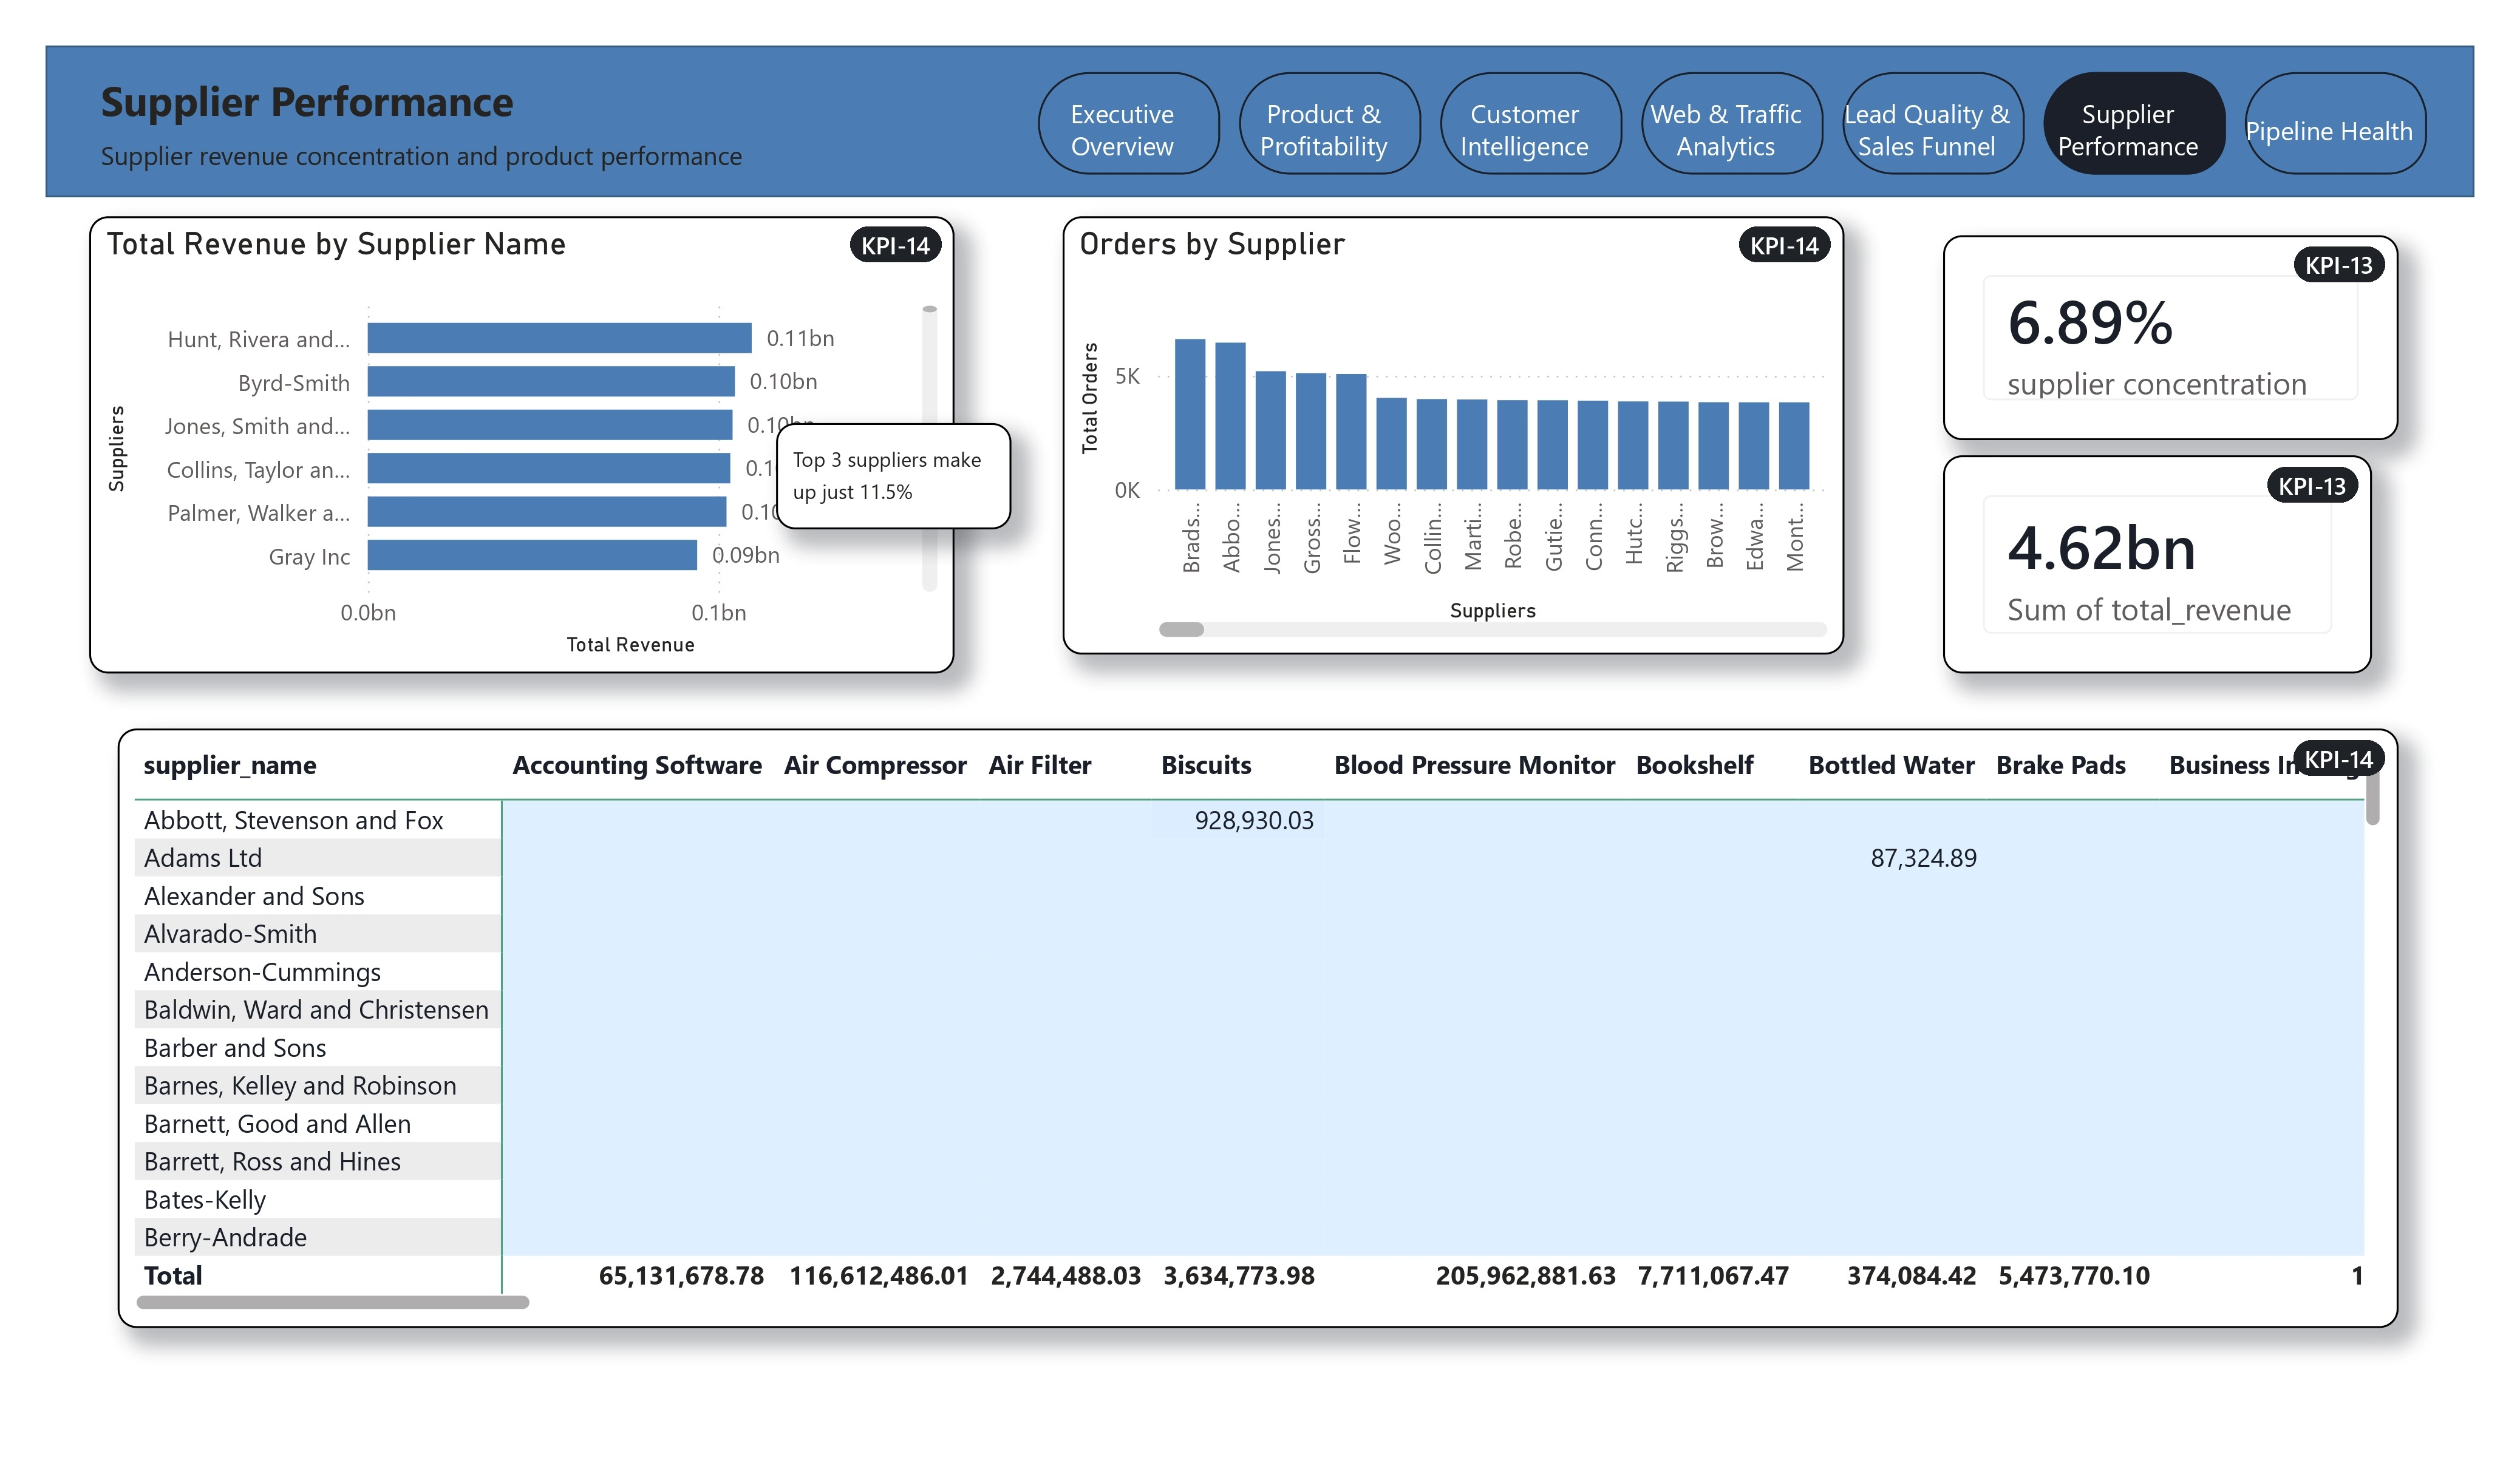

Layout of this report page (visuals, bound fields, positions):
{"tool":"powerbi","page":{"name":"Supplier Performance","canvas":[1280,720],"ordinal":5},"visuals":[{"type":"shape","box":[0,0,1280,80],"z":0},{"type":"barChart","title":"Total Revenue by Supplier Name","fields":{"Category":["marts vw_supplier_product_performance.supplier_name"],"Y":["Sum(marts vw_supplier_product_performance.total_revenue)"]},"box":[23.3,89.5,455.8,241.9],"z":1000},{"type":"cardVisual","fields":{"Data":["Sum(marts vw_supplier_revenue.revenue_share_pct)"]},"box":[1000,100,239.7,107.7],"z":2000},{"type":"pivotTable","title":"Supplier Product Matrix","fields":{"Columns":["marts vw_supplier_product_performance.product_name"],"Rows":["marts vw_supplier_product_performance.supplier_name"],"Values":["Sum(marts vw_supplier_product_performance.total_revenue)"]},"box":[38.4,360.5,1201.2,315.1],"z":3000},{"type":"cardVisual","fields":{"Data":["Sum(marts vw_supplier_revenue.total_revenue)"]},"box":[1000,216.3,225.6,115.1],"z":4000},{"type":"clusteredColumnChart","title":"Orders by Supplier","fields":{"Category":["marts vw_supplier_product_performance.supplier_name"],"Y":["Sum(marts vw_supplier_product_performance.total_orders)"]},"box":[536,89.5,411.6,231.4],"z":5000},{"type":"textbox","box":[24.3,9.5,550.2,52.7],"z":6000},{"type":"textbox","box":[24.4,44.2,550,36],"z":7000},{"type":"pageNavigator","box":[523.2,13.5,736.8,54.1],"z":8000},{"type":"textbox","box":[384.9,198.8,124.4,55.8],"z":13000}]}

Visuals, with their boxes on the page's 1280x720 design canvas (x1, y1, x2, y2). These are canvas units, not pixel positions in the 2520x1457 screenshot, which may show the page scaled, cropped or inside an application window:
shape: rect(0, 0, 1280, 80)
"Total Revenue by Supplier Name" barChart: rect(23, 90, 479, 331)
cardVisual - Sum(marts vw_supplier_revenue.revenue_share_pct): rect(1000, 100, 1240, 208)
"Supplier Product Matrix" pivotTable: rect(38, 360, 1240, 676)
cardVisual - Sum(marts vw_supplier_revenue.total_revenue): rect(1000, 216, 1226, 331)
"Orders by Supplier" clusteredColumnChart: rect(536, 90, 948, 321)
textbox: rect(24, 10, 574, 62)
textbox: rect(24, 44, 574, 80)
pageNavigator: rect(523, 14, 1260, 68)
textbox: rect(385, 199, 509, 255)
